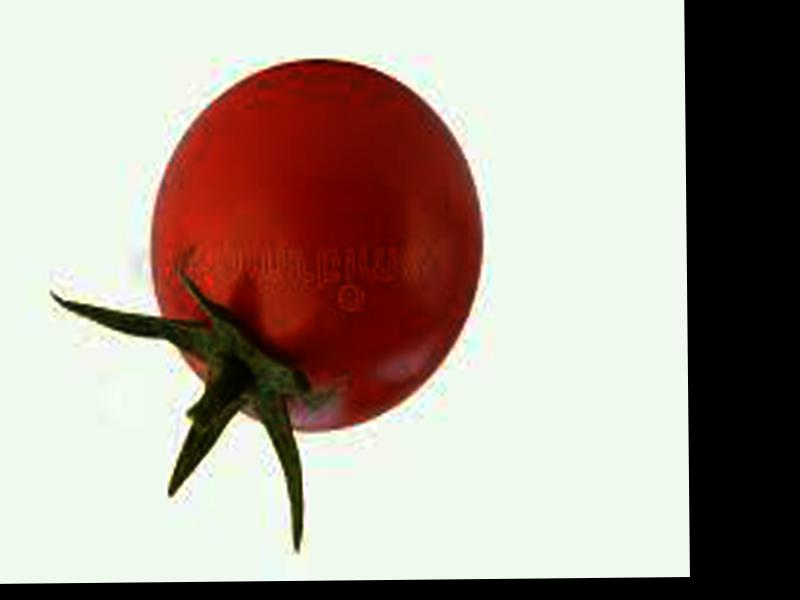Tomato: (152, 57, 485, 430)
